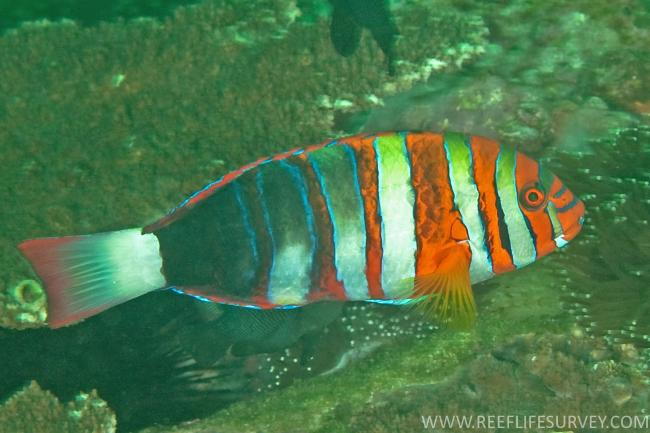fish: (17, 131, 585, 327)
